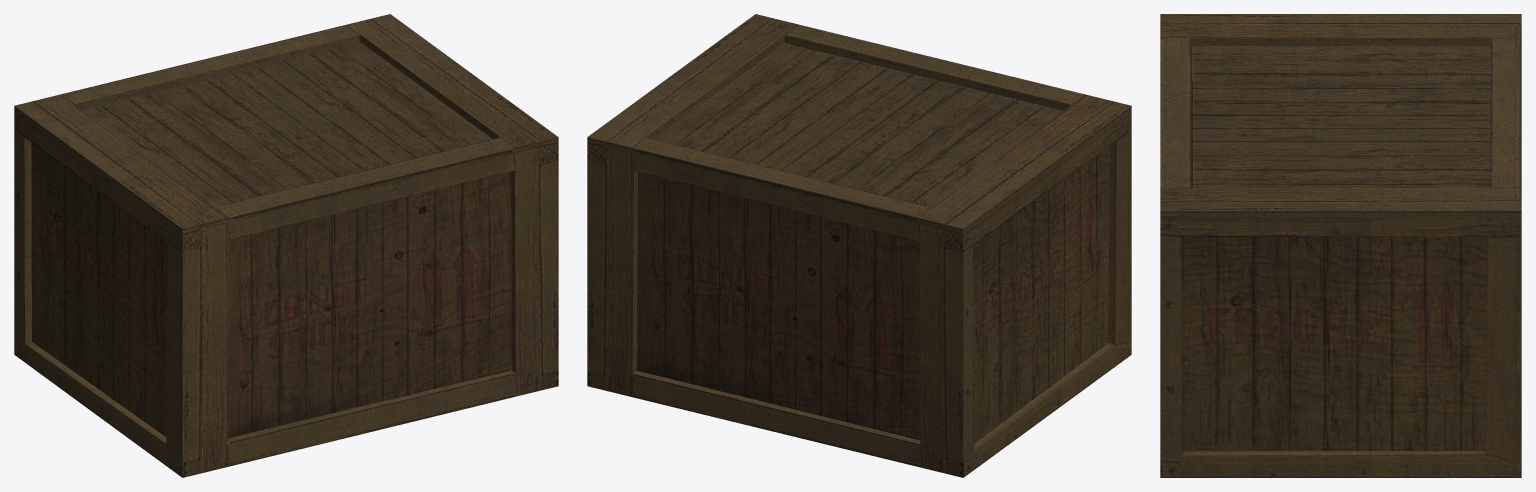
The model's file is wooden_crate_1.glb.
3 views of the same model, side by side, from view 1: azimuth 30°, elevation 25°; view 2: azimuth 150°, elevation 25°; view 3: azimuth 270°, elevation 25° (orthographic). The views are drawn at different scales.
Visible parts, largest first — view 1: wooden_crate_1; view 2: wooden_crate_1; view 3: wooden_crate_1.
Boxes of the visible parts, x1,y1,x2,y2 form: wooden_crate_1: [14, 14, 558, 477]; wooden_crate_1: [587, 14, 1131, 477]; wooden_crate_1: [1160, 14, 1521, 477].
Bounding box in the file's own units: 1.47 × 0.93 × 1.14.
Materials: 1 (1 with a texture image).
